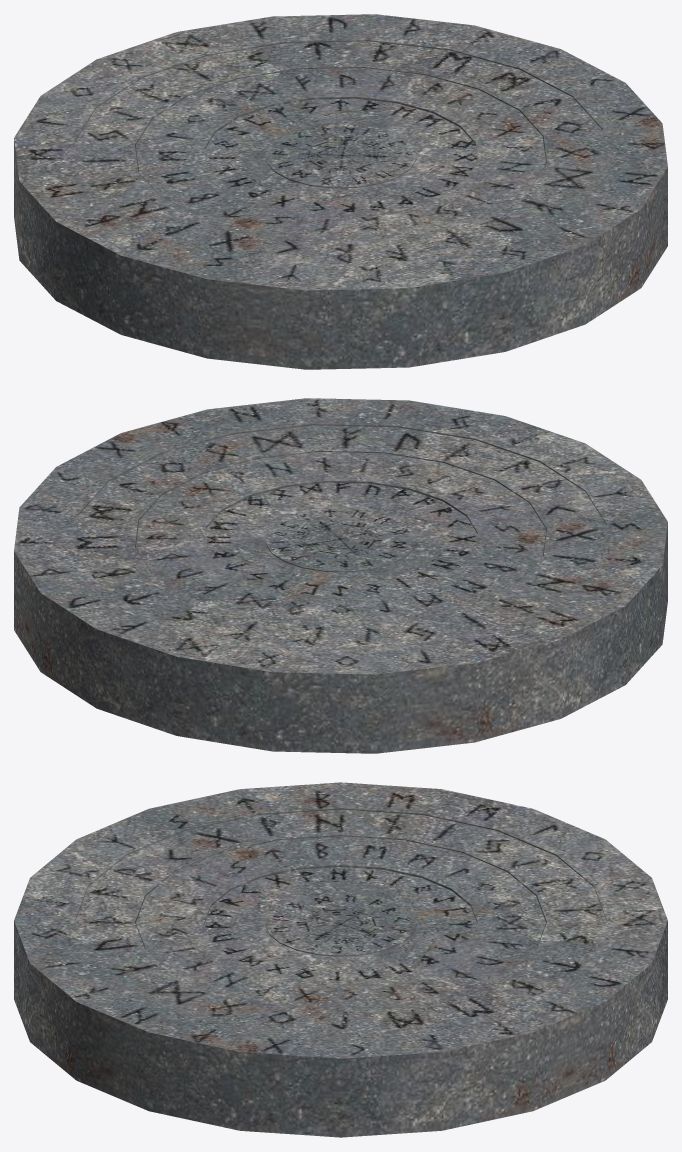
Rendered from stonetabletv2.fbx.
3 views of the same model, one above another, from view 1: azimuth 30°, elevation 25°; view 2: azimuth 150°, elevation 25°; view 3: azimuth 270°, elevation 25° (orthographic).
Parts seen in each view (by area): view 1: pCylinder7, pCylinder6, pCylinder5, pCylinder4, pCylinder1; view 2: pCylinder7, pCylinder6, pCylinder5, pCylinder4, pCylinder1; view 3: pCylinder7, pCylinder6, pCylinder5, pCylinder4, pCylinder1.
Part boxes in pixels (<box>): pCylinder7: <box>14,14,667,369</box>; pCylinder6: <box>75,41,606,264</box>; pCylinder5: <box>135,68,545,240</box>; pCylinder4: <box>204,98,477,212</box>; pCylinder1: <box>265,123,416,188</box>; pCylinder7: <box>14,398,667,753</box>; pCylinder6: <box>75,425,606,648</box>; pCylinder5: <box>136,452,546,624</box>; pCylinder4: <box>204,482,477,596</box>; pCylinder1: <box>265,507,416,572</box>; pCylinder7: <box>14,782,667,1137</box>; pCylinder6: <box>75,809,606,1033</box>; pCylinder5: <box>135,836,546,1008</box>; pCylinder4: <box>204,867,477,980</box>; pCylinder1: <box>265,892,416,956</box>.
Bounding box in the file's own units: 8.65 × 1.15 × 8.65.
